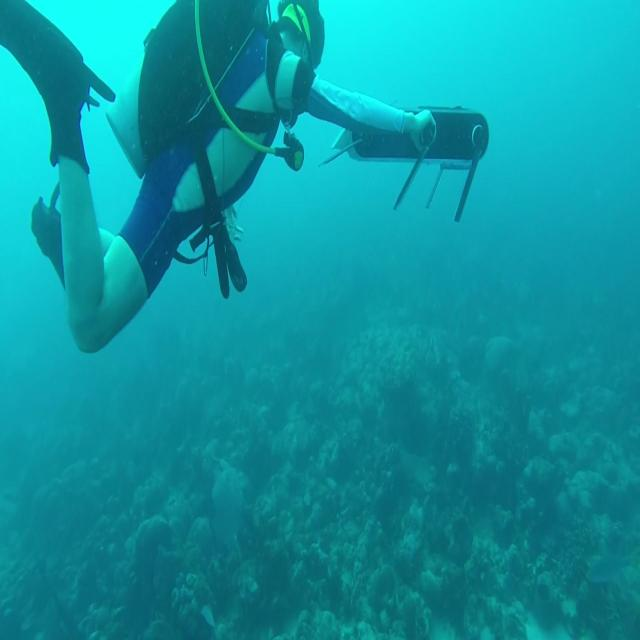human: (7, 0, 439, 354)
